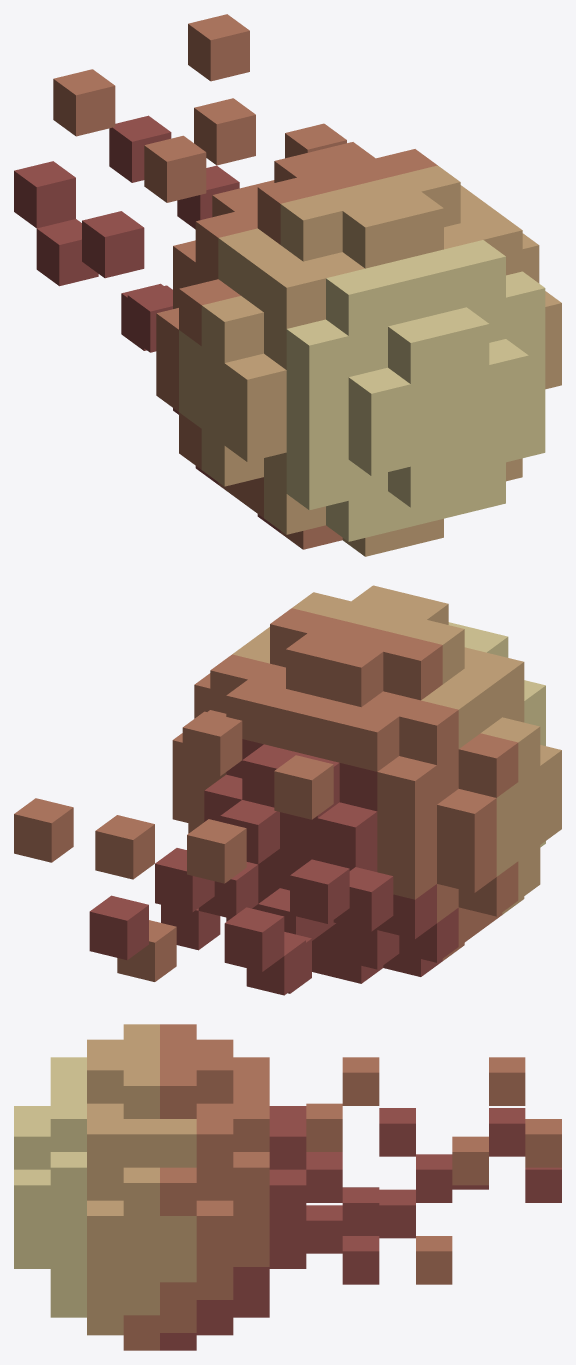
Rendered from BolaFuego-3.obj.
3 renders of one model, top to bottom at view 1: azimuth 30°, elevation 25°; view 2: azimuth 150°, elevation 25°; view 3: azimuth 270°, elevation 25°, orthographic. The views are drawn at different scales.
Size of the model in its own units: 0.8 by 0.8 by 1.5.
1 material, 1 textured.
